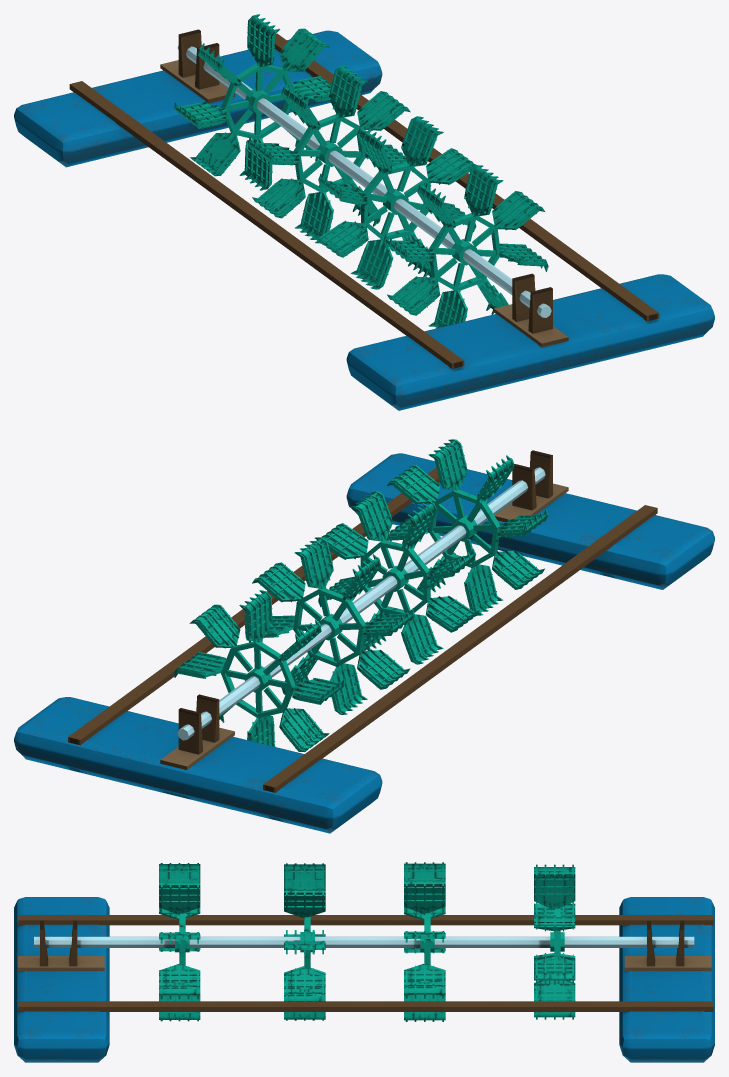
The model's file is SM_AquaCulturWaterFilter_2.fbx.
3 views of the same model, one above another, from view 1: azimuth 30°, elevation 25°; view 2: azimuth 150°, elevation 25°; view 3: azimuth 270°, elevation 25° (orthographic). The views are drawn at different scales.
Visible parts, largest first — view 1: Body, Wheel_1, Wheel_3, Wheel_2, Wheel_4; view 2: Body, Wheel_3, Wheel_4, Wheel_1, Wheel_2; view 3: Body, Wheel_4, Wheel_3, Wheel_1, Wheel_2.
Part boxes in pixels (left/top/right/bottom): Body: left=14, top=29, right=714, bottom=410; Wheel_1: left=383, top=165, right=548, bottom=328; Wheel_3: left=248, top=66, right=414, bottom=243; Wheel_2: left=314, top=116, right=476, bottom=289; Wheel_4: left=174, top=14, right=331, bottom=190; Body: left=14, top=450, right=714, bottom=833; Wheel_3: left=249, top=537, right=414, bottom=714; Wheel_4: left=174, top=590, right=345, bottom=752; Wheel_1: left=387, top=439, right=548, bottom=615; Wheel_2: left=318, top=491, right=479, bottom=664; Body: left=14, top=897, right=714, bottom=1062; Wheel_4: left=534, top=864, right=575, bottom=1019; Wheel_3: left=404, top=862, right=445, bottom=1021; Wheel_1: left=159, top=863, right=200, bottom=1021; Wheel_2: left=284, top=863, right=325, bottom=1020.
Size of the model in its own units: 130 by 63.3 by 29.13.
